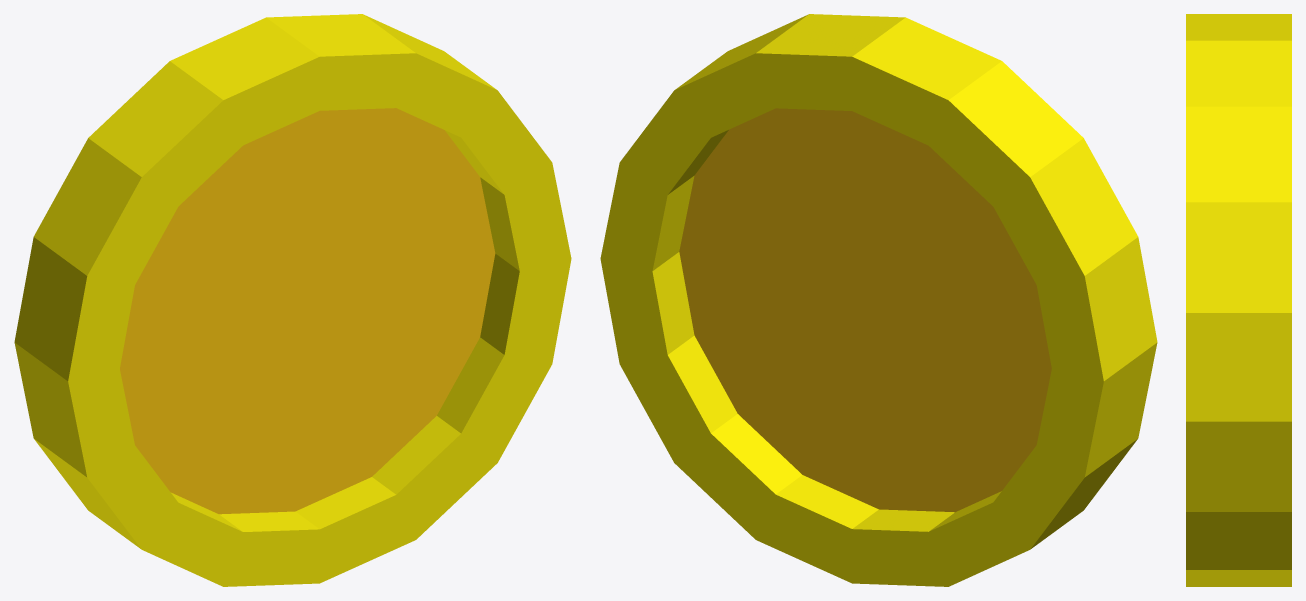
Rendered from coin.fbx.
3 views of the same model, side by side, from view 1: azimuth 30°, elevation 25°; view 2: azimuth 150°, elevation 25°; view 3: azimuth 270°, elevation 25° (orthographic).
Parts seen in each view (by area): view 1: coin; view 2: coin; view 3: coin.
Part boxes in pixels (box(x1,y1,x2,y2)): coin: box(14, 14, 571, 586); coin: box(600, 14, 1157, 586); coin: box(1186, 14, 1291, 586).
Bounding box in the file's own units: 333 × 333 × 61.4.
